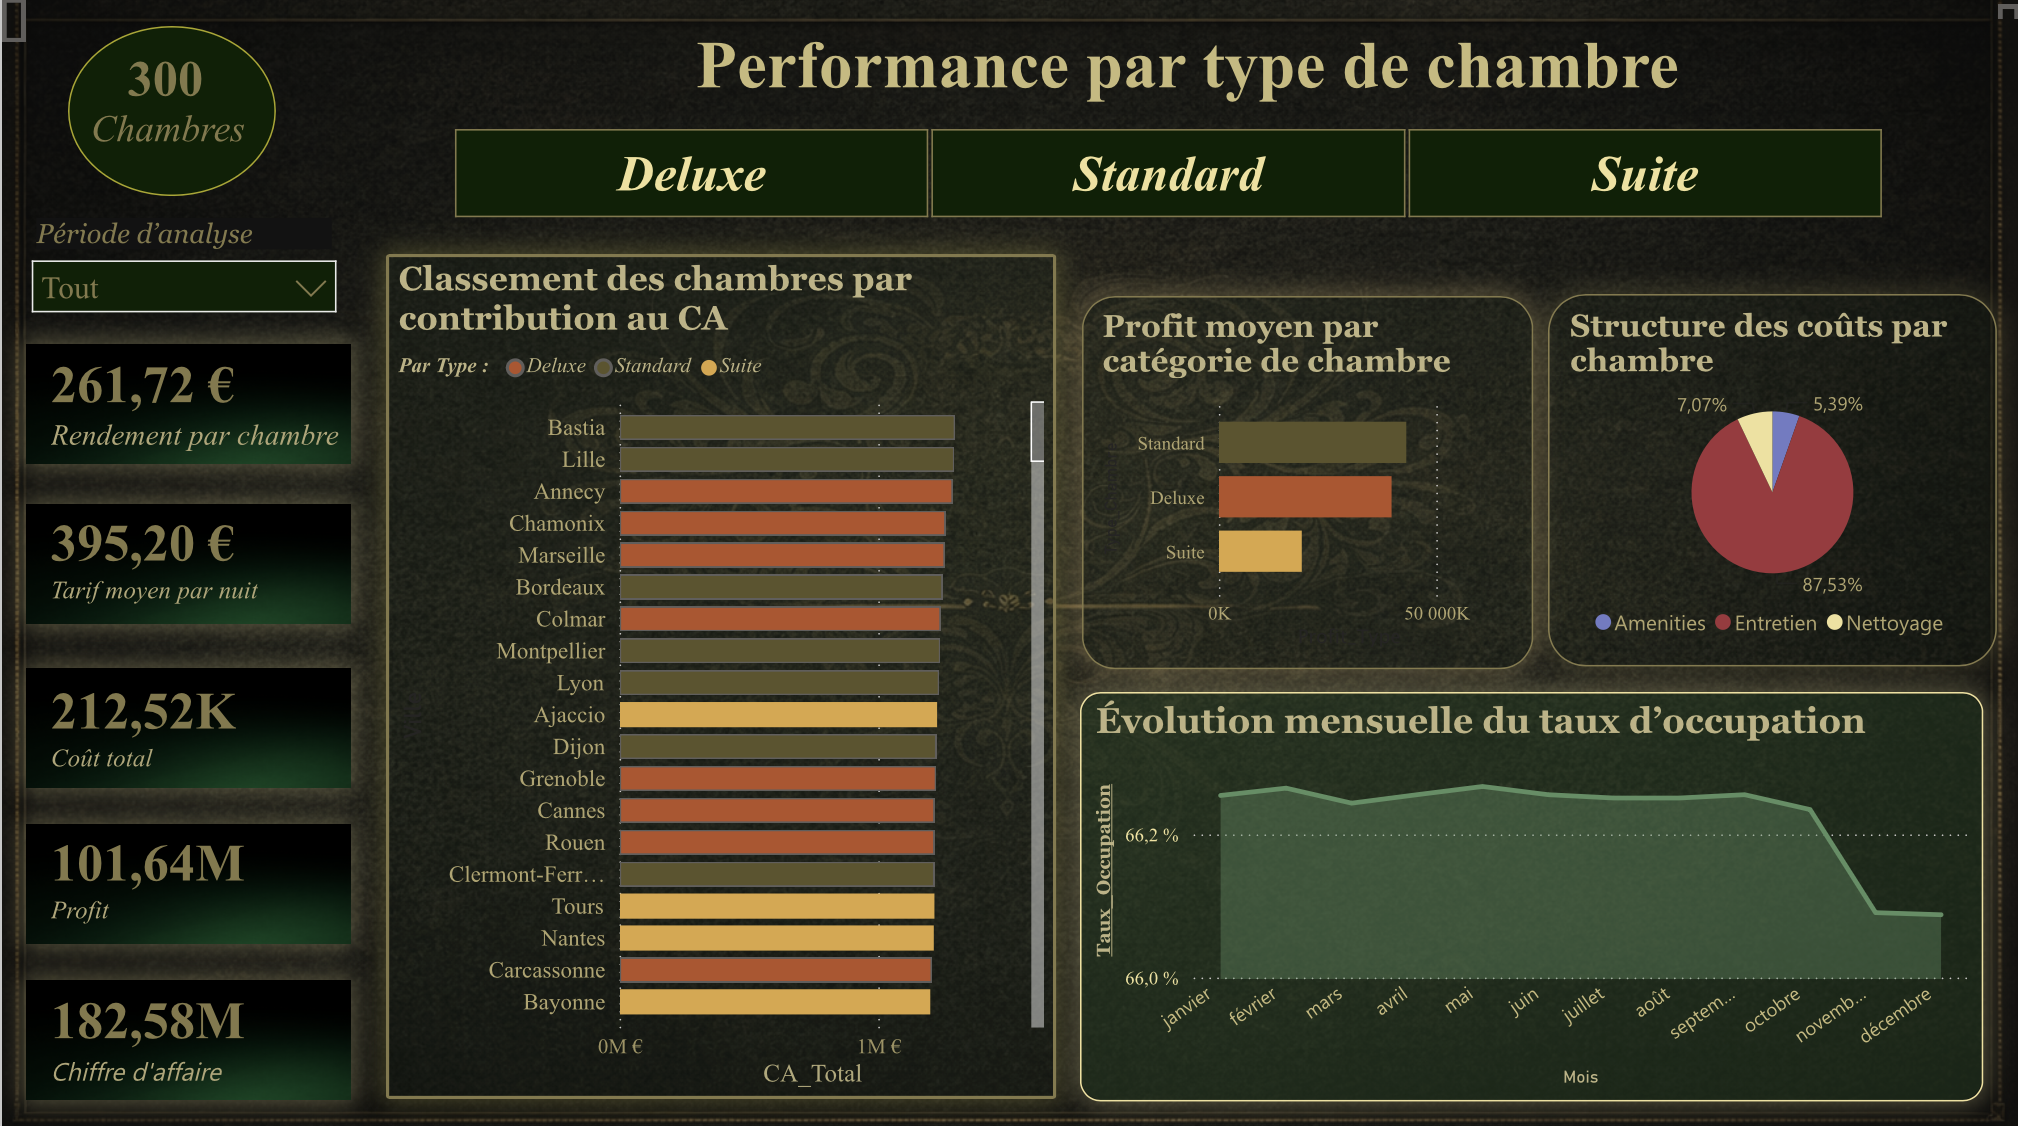

The dashboard page shown, as its layout file describes it:
{"tool":"powerbi","page":{"name":"Chambres","canvas":[1280,720],"ordinal":3},"visuals":[{"type":"image","box":[0,0,1280,720],"z":0},{"type":"actionButton","box":[1266.7,0,13.3,13.3],"z":1000},{"type":"textbox","box":[435.7,13.3,732.2,84.5],"z":2000},{"type":"slicer","fields":{"Values":["DIM_Ville_Chambre.Type_Chambre"]},"box":[262,76,956,70],"z":3000},{"type":"barChart","title":"Classement des chambres par contribution au CA","fields":{"Category":["DIM_Ville_Chambre.Ville"],"Series":["DIM_Ville_Chambre.Type_Chambre"],"Y":["Mesure.CA_Total"]},"box":[243.5,162.3,425.7,536.7],"z":4000},{"type":"pieChart","title":"Structure des coûts par chambre","fields":{"Y":["Mesure.%_Amenities","Mesure.%_Entretien","Mesure.%_Nettoyage"]},"box":[981.7,188.3,285,236.7],"z":5000},{"type":"clusteredBarChart","title":"Profit moyen par catégorie de chambre","fields":{"Category":["DIM_Ville_Chambre.Type_Chambre"],"Y":["Mesure.Profit_Type"]},"box":[685.8,188.8,286.6,236.9],"z":6000},{"type":"stackedAreaChart","title":"Évolution mensuelle du taux d’occupation","fields":{"Y":["Mesure.Taux_Occupation"],"Category":["Calendrier.Date.Variation.Hiérarchie de dates.Mois"]},"box":[685,440,573.3,260],"z":7000},{"type":"shape","box":[42,18,132,108],"z":8000},{"type":"textbox","box":[32,28,152,76],"z":9000},{"type":"image","box":[15,220,206.7,76.7],"z":10000},{"type":"cardVisual","fields":{"Data":["Mesure.RevPAR"]},"box":[0,214,248,86],"z":11000},{"type":"image","box":[15,321.7,206.7,76.7],"z":12000},{"type":"image","box":[15,425,206.7,76.7],"z":13000},{"type":"image","box":[15,525,206.7,76.7],"z":14000},{"type":"image","box":[15,623.3,206.7,76.7],"z":15000},{"type":"cardVisual","fields":{"Data":["Mesure.prix_moyen_par_nuit"]},"box":[0,313.3,208.3,85],"z":16000},{"type":"cardVisual","fields":{"Data":["Mesure.Total_Cout_Type"]},"box":[0,420,230,85],"z":17000},{"type":"cardVisual","fields":{"Data":["Mesure.Profit_Type"]},"box":[0,516.7,230,85],"z":18000},{"type":"cardVisual","fields":{"Data":["Mesure.CA_type_chambre"]},"box":[0,618.3,196.7,85],"z":19000},{"type":"slicer","fields":{"Values":["Calendrier.Année"]},"box":[8.3,135,213.3,71.7],"z":20000},{"type":"actionButton","box":[0,0,15,28.3],"z":21000}]}

Visuals, with their boxes in screenshot pixels (x1, y1, x2, y2), scaled from the page's 1280x720 canvas onto the 2018x1126 screenshot:
image: left=0, top=0, right=2017, bottom=1125
actionButton: left=1997, top=0, right=2017, bottom=21
textbox: left=687, top=21, right=1841, bottom=153
slicer - DIM_Ville_Chambre.Type_Chambre: left=413, top=119, right=1920, bottom=228
"Classement des chambres par contribution au CA" barChart: left=384, top=254, right=1055, bottom=1093
"Structure des coûts par chambre" pieChart: left=1548, top=294, right=1997, bottom=665
"Profit moyen par catégorie de chambre" clusteredBarChart: left=1081, top=295, right=1533, bottom=666
"Évolution mensuelle du taux d’occupation" stackedAreaChart: left=1080, top=688, right=1984, bottom=1095
shape: left=66, top=28, right=274, bottom=197
textbox: left=50, top=44, right=290, bottom=163
image: left=24, top=344, right=350, bottom=464
cardVisual - Mesure.RevPAR: left=0, top=335, right=391, bottom=469
image: left=24, top=503, right=350, bottom=623
image: left=24, top=665, right=350, bottom=785
image: left=24, top=821, right=350, bottom=941
image: left=24, top=975, right=350, bottom=1095
cardVisual - Mesure.prix_moyen_par_nuit: left=0, top=490, right=328, bottom=623
cardVisual - Mesure.Total_Cout_Type: left=0, top=657, right=363, bottom=790
cardVisual - Mesure.Profit_Type: left=0, top=808, right=363, bottom=941
cardVisual - Mesure.CA_type_chambre: left=0, top=967, right=310, bottom=1100
slicer - Calendrier.Année: left=13, top=211, right=349, bottom=323
actionButton: left=0, top=0, right=24, bottom=44
